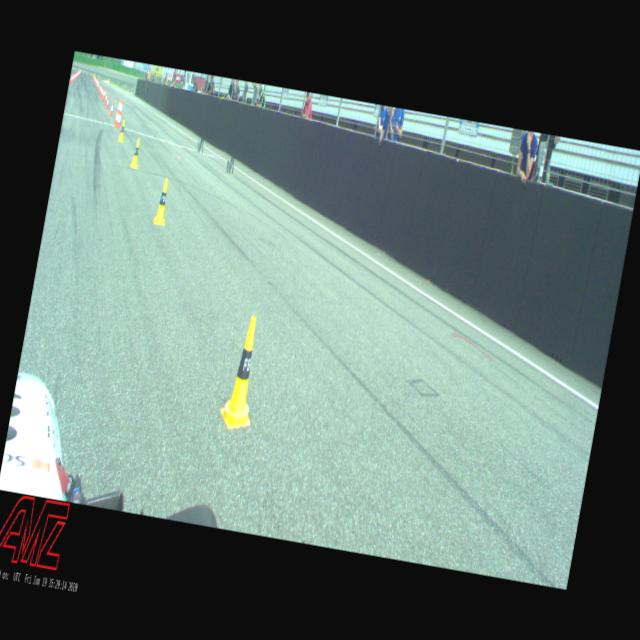large_orange_cone: (115, 98, 124, 127), (112, 98, 121, 125)
orange_cone: (108, 101, 115, 116), (105, 96, 110, 109), (103, 93, 107, 104), (101, 89, 105, 100)
yellow_cone: (218, 314, 268, 430), (152, 178, 172, 225), (130, 137, 142, 168), (117, 118, 127, 142)
